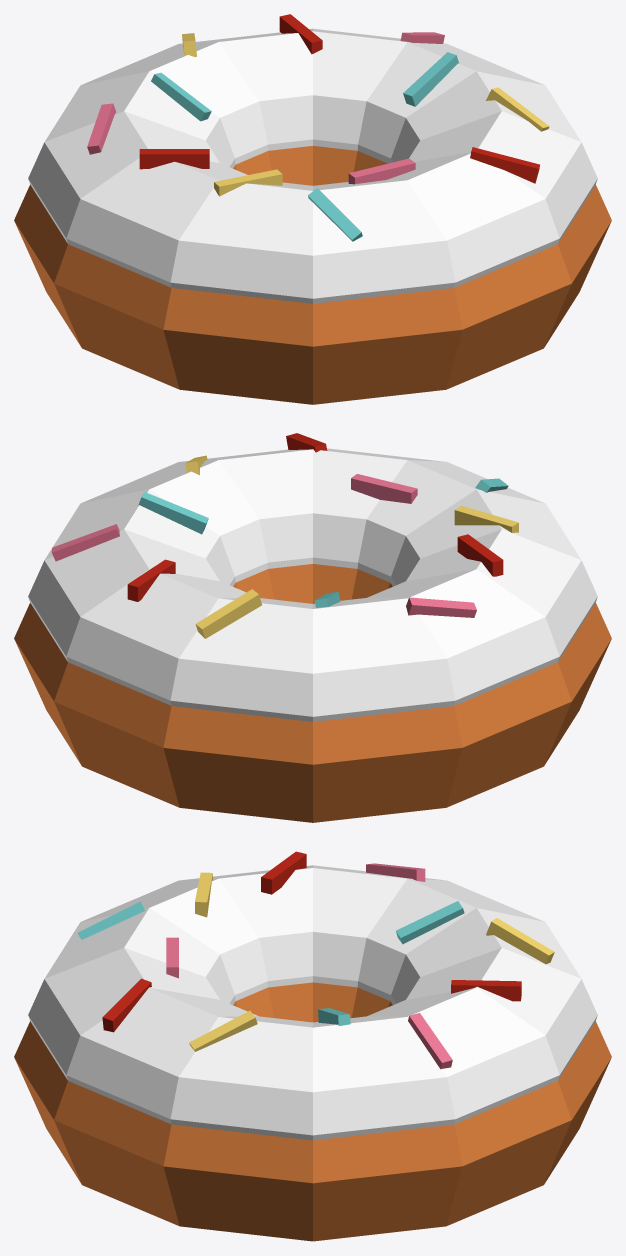
File: CandylandDonut_03.fbx
3 views of the same model, one above another, from view 1: azimuth 30°, elevation 25°; view 2: azimuth 150°, elevation 25°; view 3: azimuth 270°, elevation 25° (orthographic).
Visible parts, largest first — view 1: CandylandDonut_03; view 2: CandylandDonut_03; view 3: CandylandDonut_03.
Part boxes in pixels (box(x1,y1,x2,y2)): CandylandDonut_03: box(14, 14, 611, 404); CandylandDonut_03: box(14, 433, 611, 822); CandylandDonut_03: box(14, 851, 611, 1241).
Bounding box in the file's own units: 1.77 × 0.733 × 1.77.
